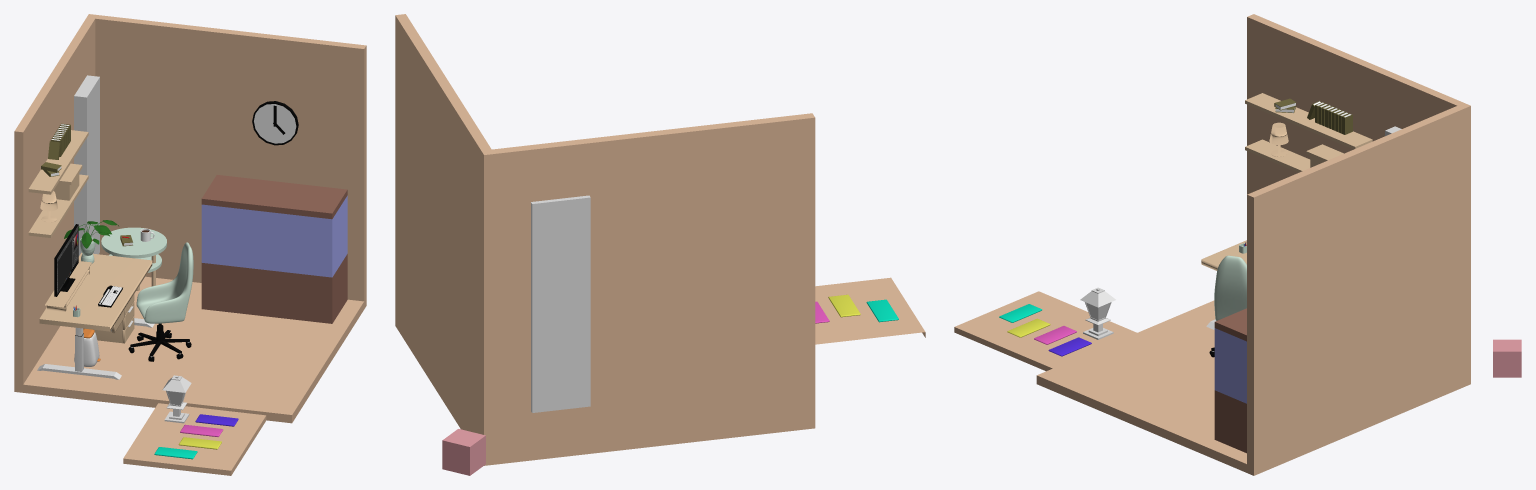
Rendered from room3.glb.
3 views of the same model, side by side, from view 1: azimuth 30°, elevation 25°; view 2: azimuth 150°, elevation 25°; view 3: azimuth 270°, elevation 25° (orthographic). The views are drawn at different scales.
Visible parts, largest first — view 1: Wall.001, Aquarium, Tableshit, FloorNew.001, Shelf.003, Cutout.002, Chair.001, FloorItems, othershit, Clock.001, PC, Lamp.003 (+2 smaller); view 2: Wall.001, Cutout.002, FloorNew.001, Cube; view 3: Wall.001, FloorNew.001, Shelf.003, Aquarium, Chair.001, Cube, Lamp.003, Tableshit.
Part boxes in pixels (x1=…): Wall.001: x1=14, y1=14, x2=366, y2=423; Aquarium: x1=201, y1=175, x2=347, y2=323; Tableshit: x1=37, y1=227, x2=166, y2=379; FloorNew.001: x1=123, y1=403, x2=266, y2=475; Shelf.003: x1=28, y1=123, x2=88, y2=237; Cutout.002: x1=74, y1=75, x2=99, y2=256; Chair.001: x1=136, y1=242, x2=193, y2=323; FloorItems: x1=74, y1=294, x2=191, y2=366; othershit: x1=45, y1=220, x2=122, y2=317; Clock.001: x1=252, y1=101, x2=298, y2=145; PC: x1=54, y1=224, x2=78, y2=296; Lamp.003: x1=162, y1=375, x2=191, y2=423; Wall.001: x1=395, y1=14, x2=815, y2=465; Cutout.002: x1=531, y1=195, x2=590, y2=412; FloorNew.001: x1=815, y1=277, x2=925, y2=344; Cube: x1=442, y1=429, x2=485, y2=475; Wall.001: x1=1036, y1=14, x2=1470, y2=475; FloorNew.001: x1=954, y1=291, x2=1136, y2=371; Shelf.003: x1=1245, y1=93, x2=1372, y2=172; Aquarium: x1=1214, y1=308, x2=1246, y2=453; Chair.001: x1=1214, y1=255, x2=1246, y2=320; Cube: x1=1493, y1=339, x2=1521, y2=377; Lamp.003: x1=1080, y1=287, x2=1115, y2=339; Tableshit: x1=1201, y1=240, x2=1246, y2=329.
Bounding box in the file's own units: 30.43 × 21.53 × 39.74.
Materials: 32 (1 with a texture image).
